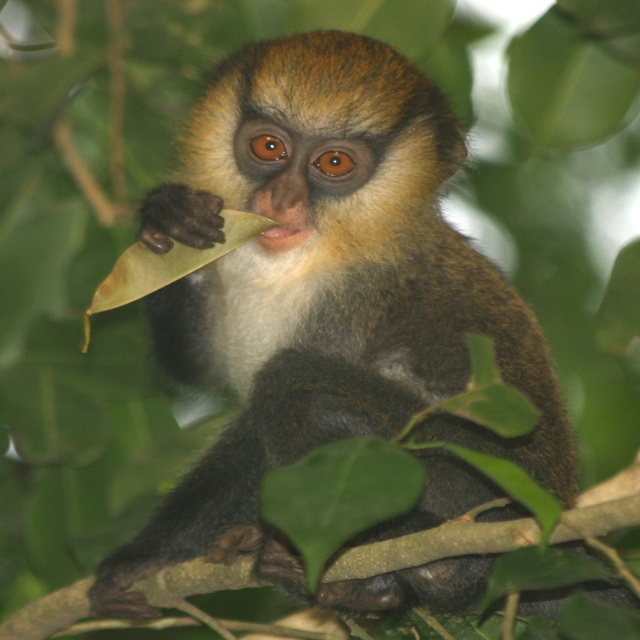Monkey: (87, 30, 579, 622)
